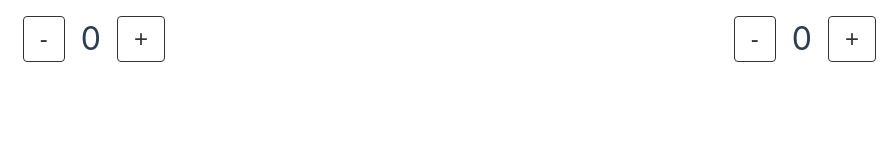
it: Counter › min 속성을 준수합니다
Click the 2nd button with class "decrease". click: (755, 39)
box: [734,16,776,62]
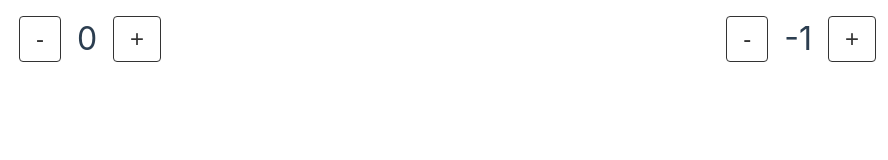
Click the button with class "decrease" next to "-1". click: (747, 39)
box: [726,16,768,62]
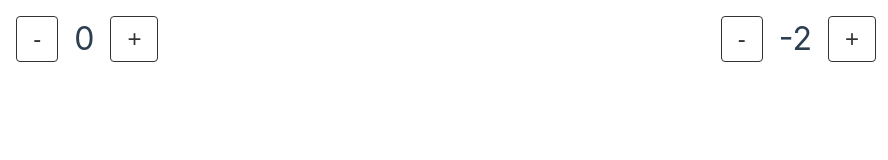
Click the button with class "decrease" next to "-2". click: (742, 39)
box: [721,16,763,62]
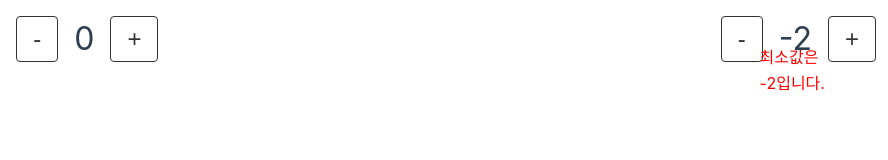
Now the text with class "count-value" reads "-2", box [779,19,812,58]
Now the text "최소값은 -2입니다." is shown, box [760,47,825,93]
